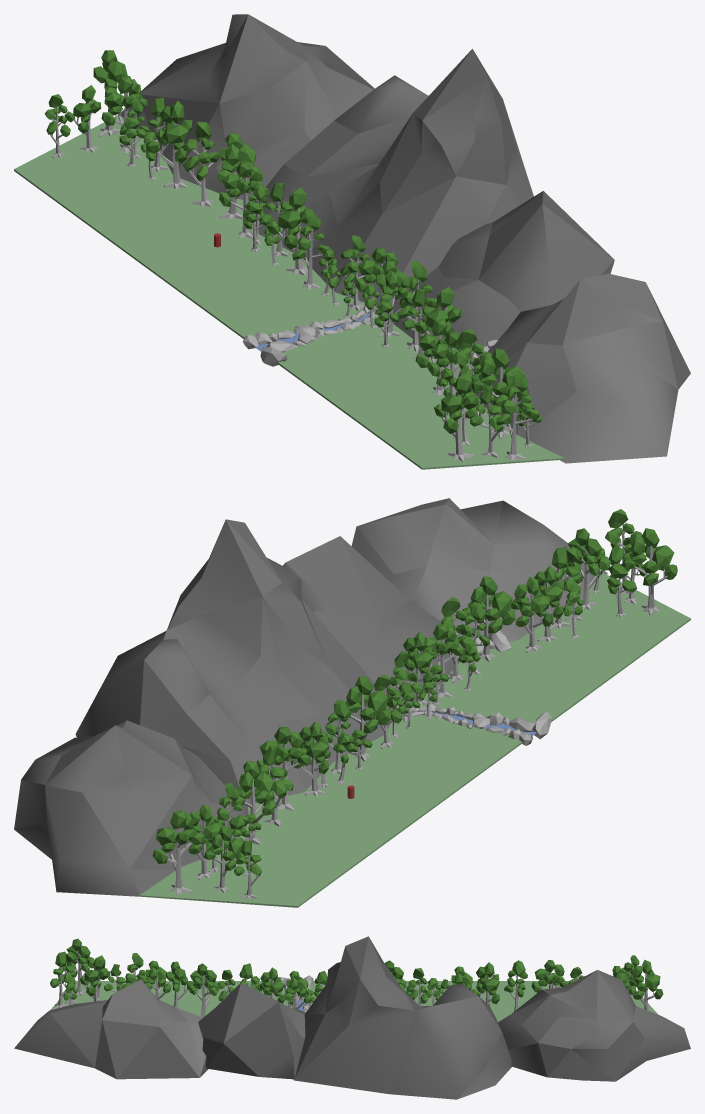
File: Envorment_v1.fbx
3 renders of one model, top to bottom at view 1: azimuth 30°, elevation 25°; view 2: azimuth 150°, elevation 25°; view 3: azimuth 270°, elevation 25°, orthographic. The views are drawn at different scales.
Parts seen in each view (by area): view 1: Ground, Moutain_1, Mountain_4, Moutain_3, Moutain_2, Leaf_9, Leaf_35, Leaf_37, Leaf_17, Leaf_12, Leaf_11, Leaf_4 (+14 smaller); view 2: Ground, Moutain_1, Moutain_3, Mountain_4, Moutain_2, Leaf_37, Leaf_17, Leaf_29, Leaf_9, Leaf_1, Leaf_30, Leaf_11 (+13 smaller); view 3: Moutain_1, Moutain_3, Mountain_4, Moutain_2, Ground, Leaf_1, Leaf_9, Leaf_11, Leaf_29, Leaf_35, Leaf_25, Leaf_23 (+12 smaller).
Part boxes in pixels (x1,y1,x2,y2): Ground: (14,115,564,469); Moutain_1: (253,49,533,306); Mountain_4: (475,273,690,463); Moutain_3: (120,14,374,201); Moutain_2: (384,191,614,350); Leaf_9: (145,100,192,163); Leaf_35: (471,348,528,407); Leaf_37: (434,373,479,433); Leaf_17: (267,187,313,249); Leaf_12: (219,161,269,206); Leaf_11: (218,133,263,182); Leaf_4: (101,76,148,125); Ground: (139,573,690,907); Moutain_1: (75,519,393,804); Moutain_3: (14,720,248,896); Mountain_4: (351,498,607,641); Moutain_2: (283,536,458,702); Leaf_37: (621,528,677,585); Leaf_17: (345,676,391,733); Leaf_29: (462,576,515,633); Leaf_9: (231,761,275,815); Leaf_1: (152,810,203,863); Leaf_30: (511,576,553,626); Leaf_11: (256,727,311,774); Moutain_1: (293,936,511,1099); Moutain_3: (498,970,690,1081); Mountain_4: (14,979,208,1079); Moutain_2: (198,982,305,1079); Ground: (50,981,658,1021); Leaf_1: (629,960,663,999); Leaf_9: (531,960,568,992); Leaf_11: (473,962,499,1004); Leaf_29: (189,963,219,995); Leaf_35: (79,955,110,996); Leaf_25: (260,967,285,1003); Leaf_23: (285,971,312,1003).
Size of the model in its own units: 329 by 179 by 785.
